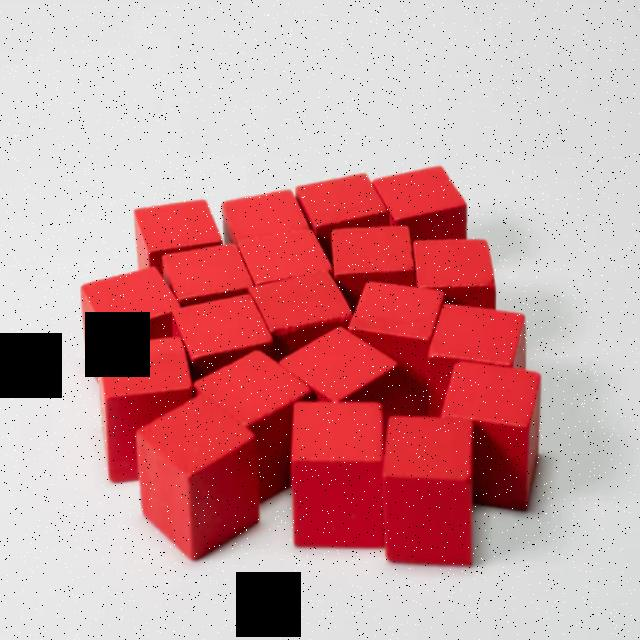red cube: (135, 393, 260, 561), (191, 348, 315, 503), (278, 325, 399, 455), (441, 362, 540, 510), (95, 336, 194, 484), (291, 401, 384, 547), (383, 416, 473, 566), (349, 281, 445, 416), (80, 265, 181, 380), (426, 303, 526, 417), (249, 270, 353, 363), (171, 291, 273, 383), (294, 171, 389, 262), (371, 163, 467, 241), (332, 227, 415, 312), (133, 198, 222, 276), (160, 241, 254, 307), (414, 239, 496, 310), (237, 228, 331, 285), (222, 187, 310, 243)
